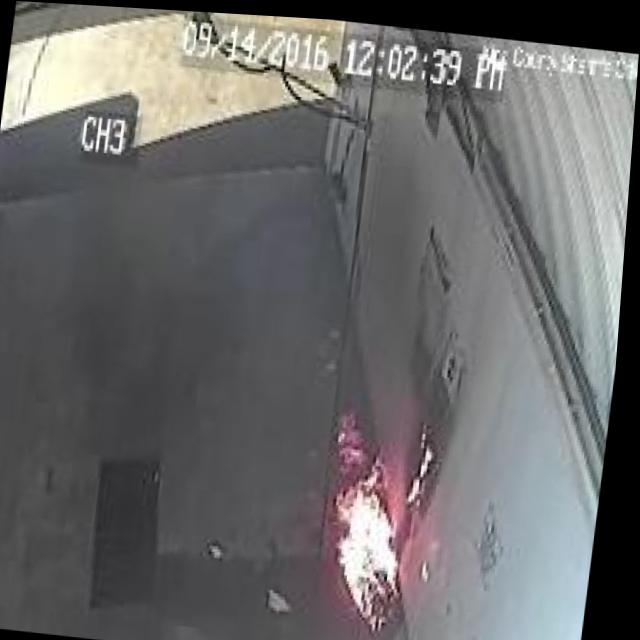fire: (305, 395, 466, 640)
